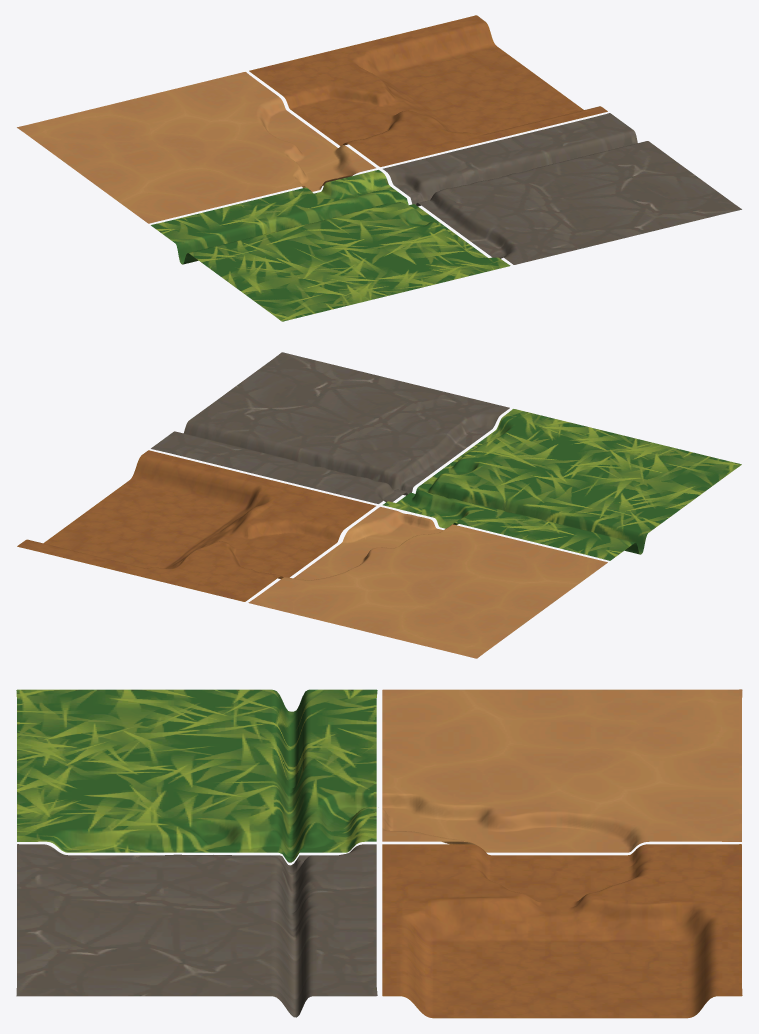
Rendered from TutorialLevel_Terrain01.fbx.
The picture shows the model from 3 angles, top to bottom: view 1: azimuth 30°, elevation 25°; view 2: azimuth 150°, elevation 25°; view 3: azimuth 270°, elevation 25°; orthographic projection. The views are drawn at different scales.
Parts seen in each view (by area): view 1: TutorialLevel_Terrain01; view 2: TutorialLevel_Terrain01; view 3: TutorialLevel_Terrain01.
Boxes of the visible parts, left/top/right/bottom form: TutorialLevel_Terrain01: left=17, top=15, right=741, bottom=321; TutorialLevel_Terrain01: left=17, top=352, right=741, bottom=658; TutorialLevel_Terrain01: left=16, top=689, right=742, bottom=1018.
Size of the model in its own units: 300 by 11.08 by 300.
Materials: 1 (1 with a texture image).
